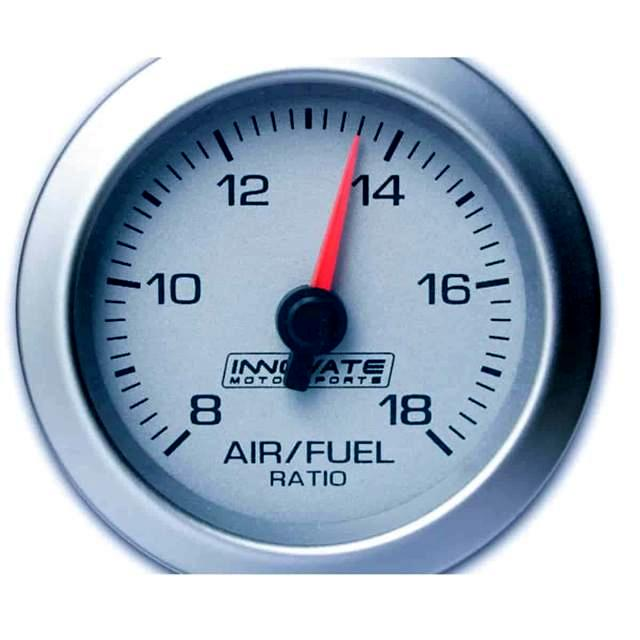Needle_Tip: (329, 124, 386, 172)
Needle_base: (260, 284, 366, 362)
max_value: (383, 372, 457, 444)
min_value: (177, 386, 242, 444)
